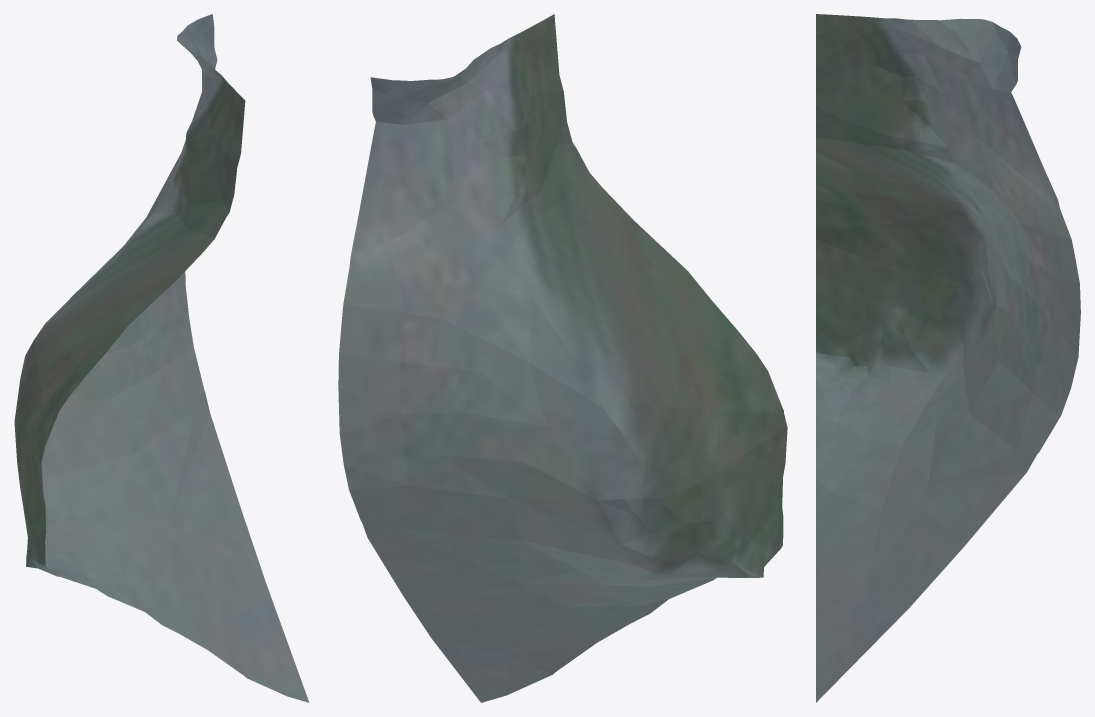
Rendered from Tile_+001_+007_L21_0003100.glb.
3 renders of one model, left to right at view 1: azimuth 30°, elevation 25°; view 2: azimuth 150°, elevation 25°; view 3: azimuth 270°, elevation 25°, orthographic. The views are drawn at different scales.
Parts seen in each view (by area): view 1: rtc; view 2: rtc; view 3: rtc.
Part boxes in pixels (x1,y1,x2,y2): rtc: (14,14,309,702); rtc: (338,14,787,702); rtc: (816,14,1080,702).
Bounding box in the file's own units: 5.85 × 12.88 × 4.72.
1 material, 1 textured.
